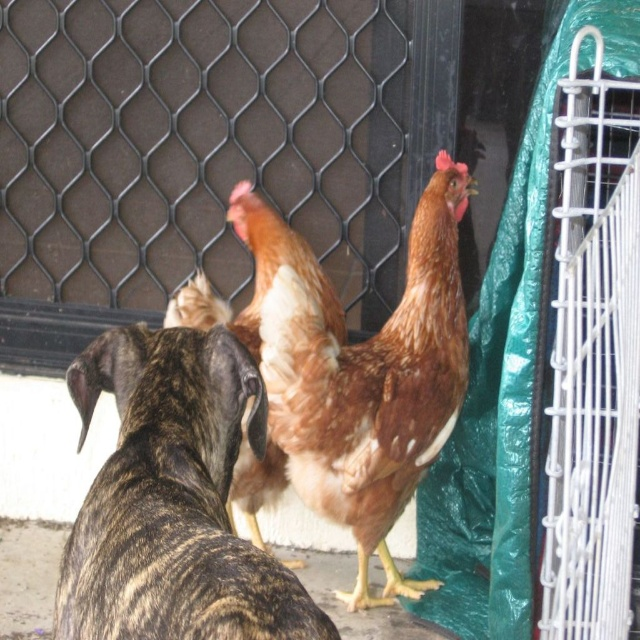Chicken: (218, 131, 477, 640)
